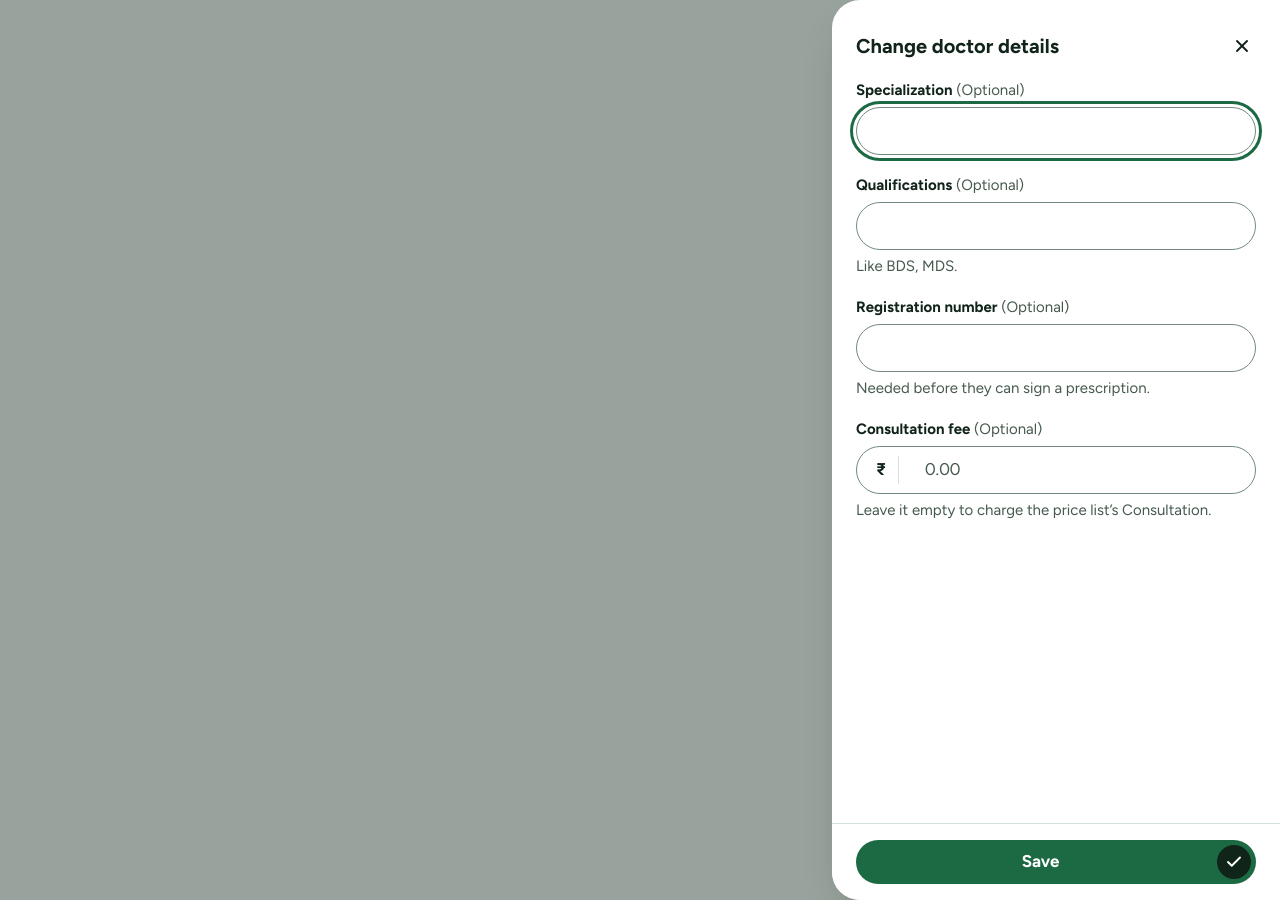
Test case: DoctorDetailsSheet (plan §8.4) › starts empty for a doctor with none, and says why a save failed
Type "lots" into the field labelled "Consultation fee (Optional)" at x=1056, y=470, box [856,446,1256,494]
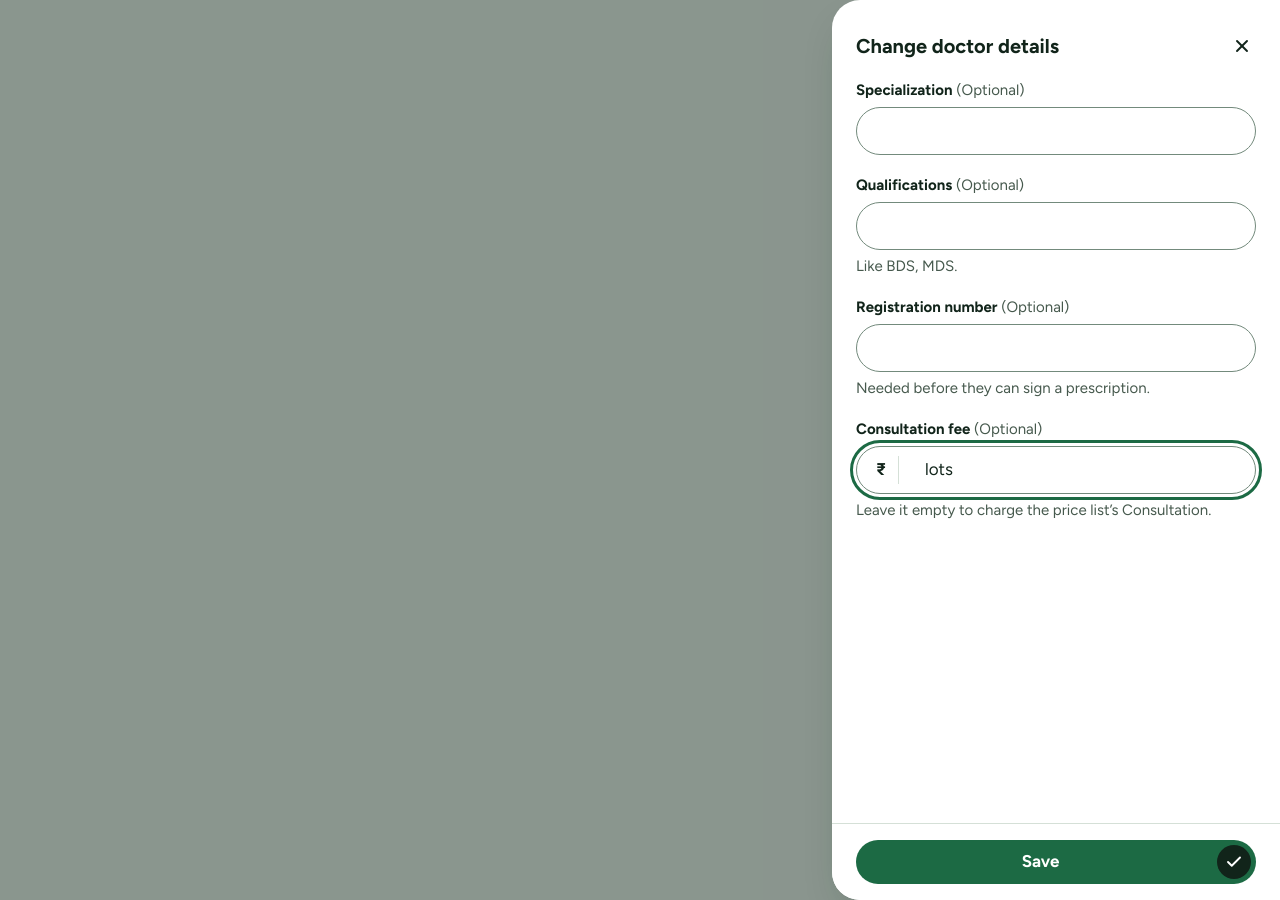
Click the button "Save" at x=1056, y=862, box [856,840,1256,884]
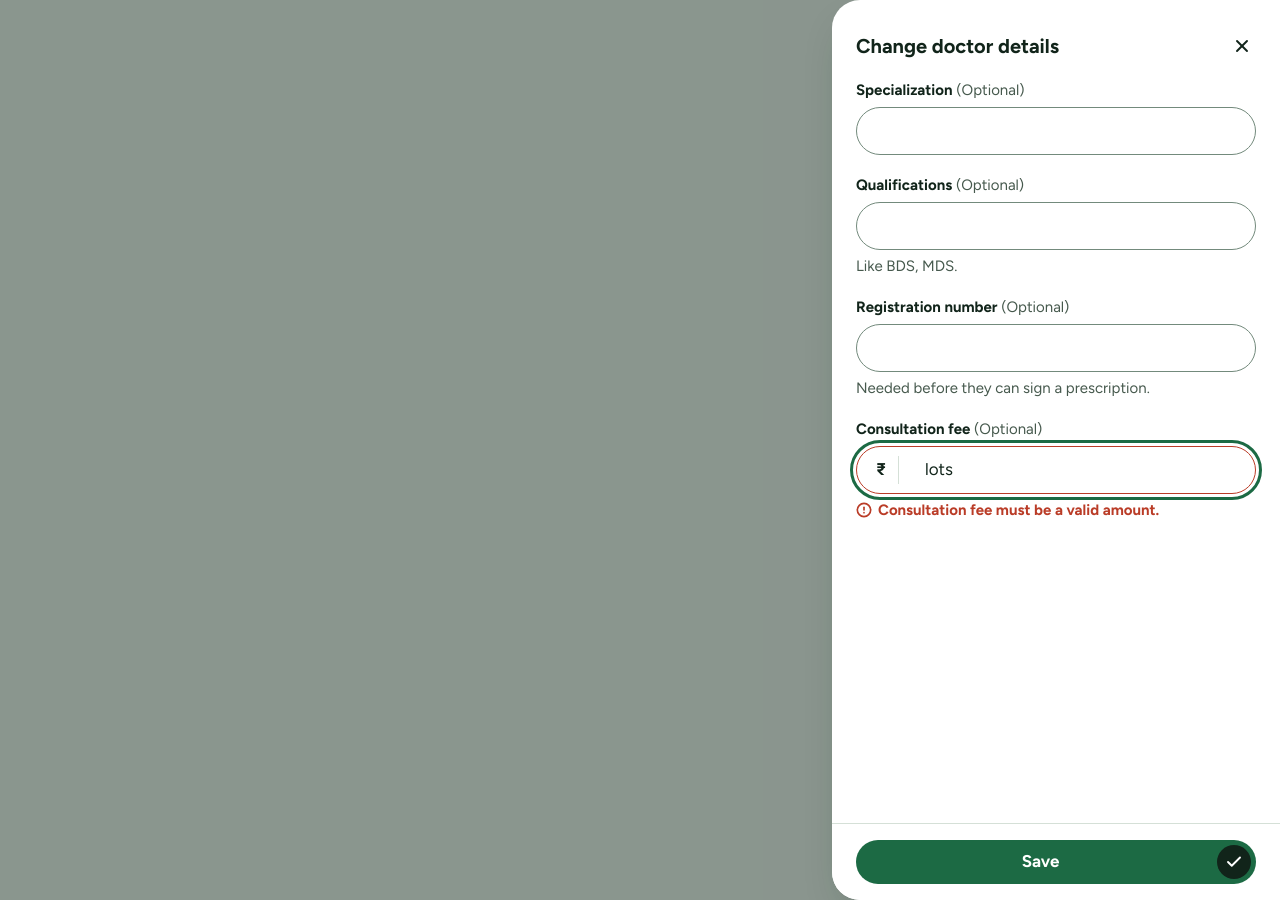
Expected: the text "Consultation fee must be a valid amount." is shown, [856,501,1159,519]
Clear the field labelled "Consultation fee (Optional)" at x=1056, y=470, box [856,446,1256,494]
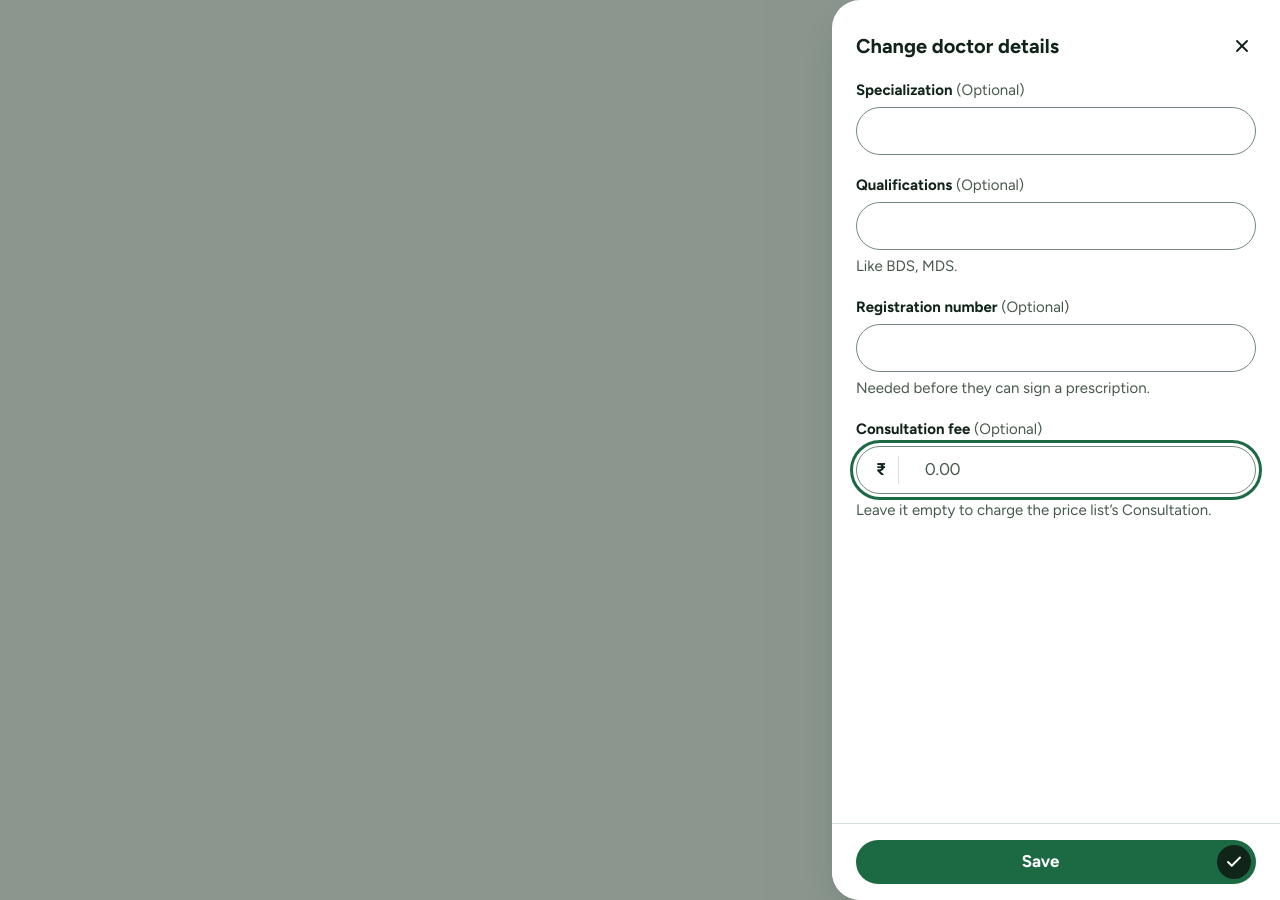
Click the button "Save" at x=1056, y=862, box [856,840,1256,884]
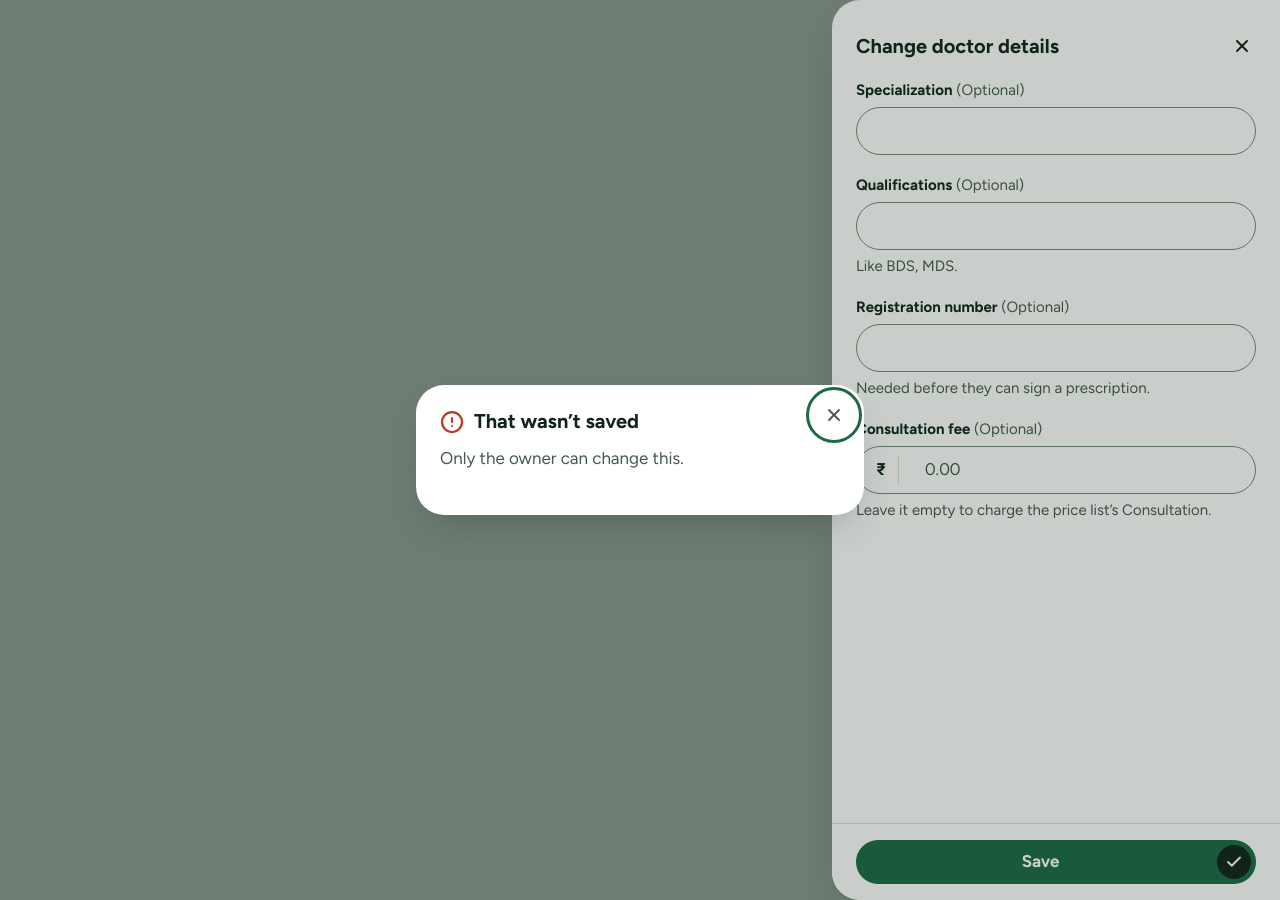
Expected: the dialog "That wasn’t saved" shows "Only the owner", [440,448,684,468]
